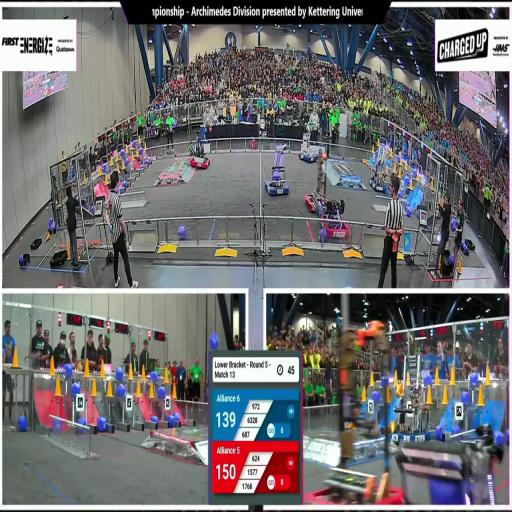robot: (308, 314, 408, 504), (395, 433, 501, 505), (391, 341, 431, 445), (304, 144, 331, 214), (265, 143, 290, 196), (319, 199, 350, 239), (187, 128, 210, 169), (369, 144, 388, 192), (299, 120, 319, 164)
